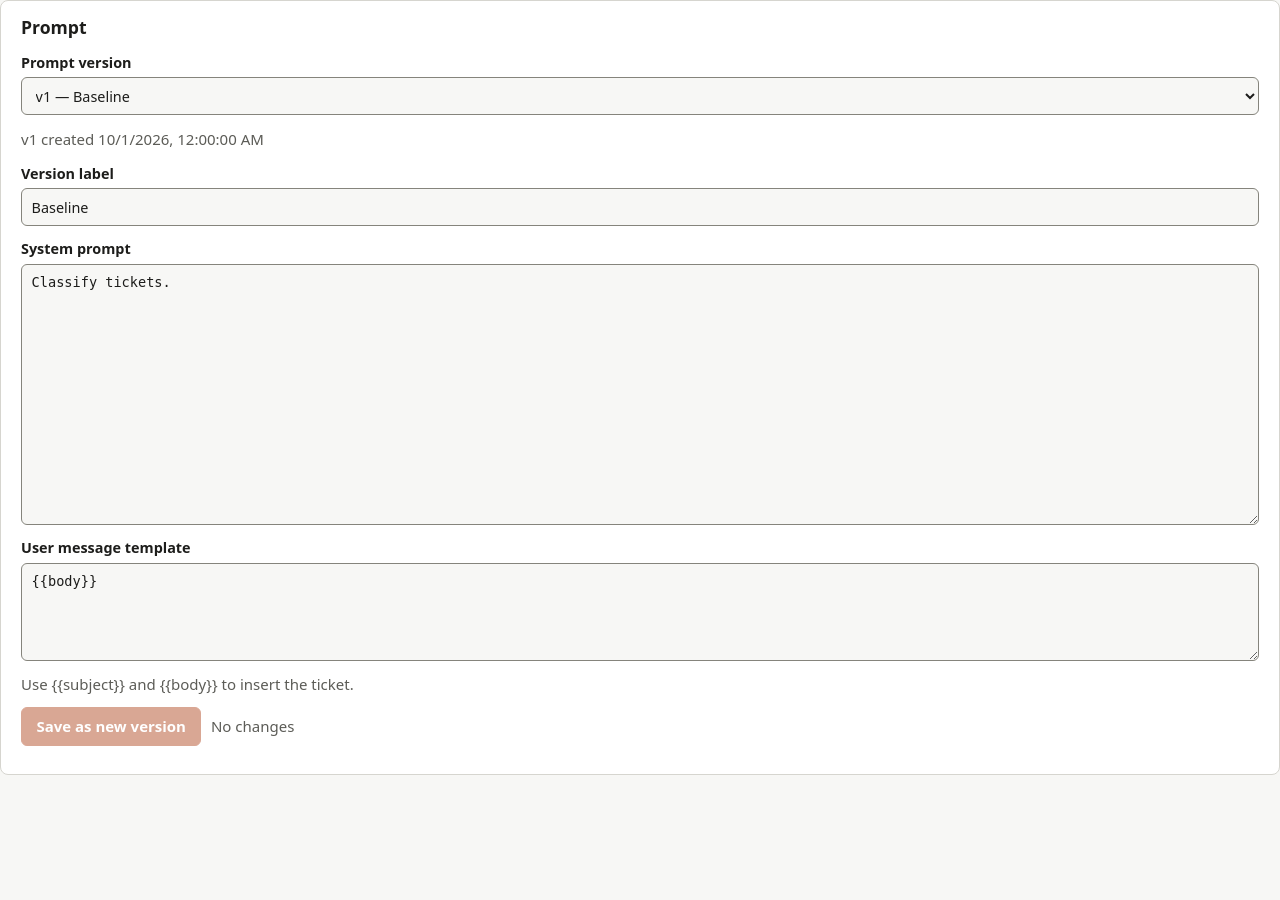
Test case: PromptEditor › saves an edit as a new version derived from the selected one
Expected: the button "Save as new version" is disabled, [21,707,201,746]
Step 1. Type " Respond with JSON." into the text box labelled "System prompt" → (640, 395), box [21,264,1259,525]
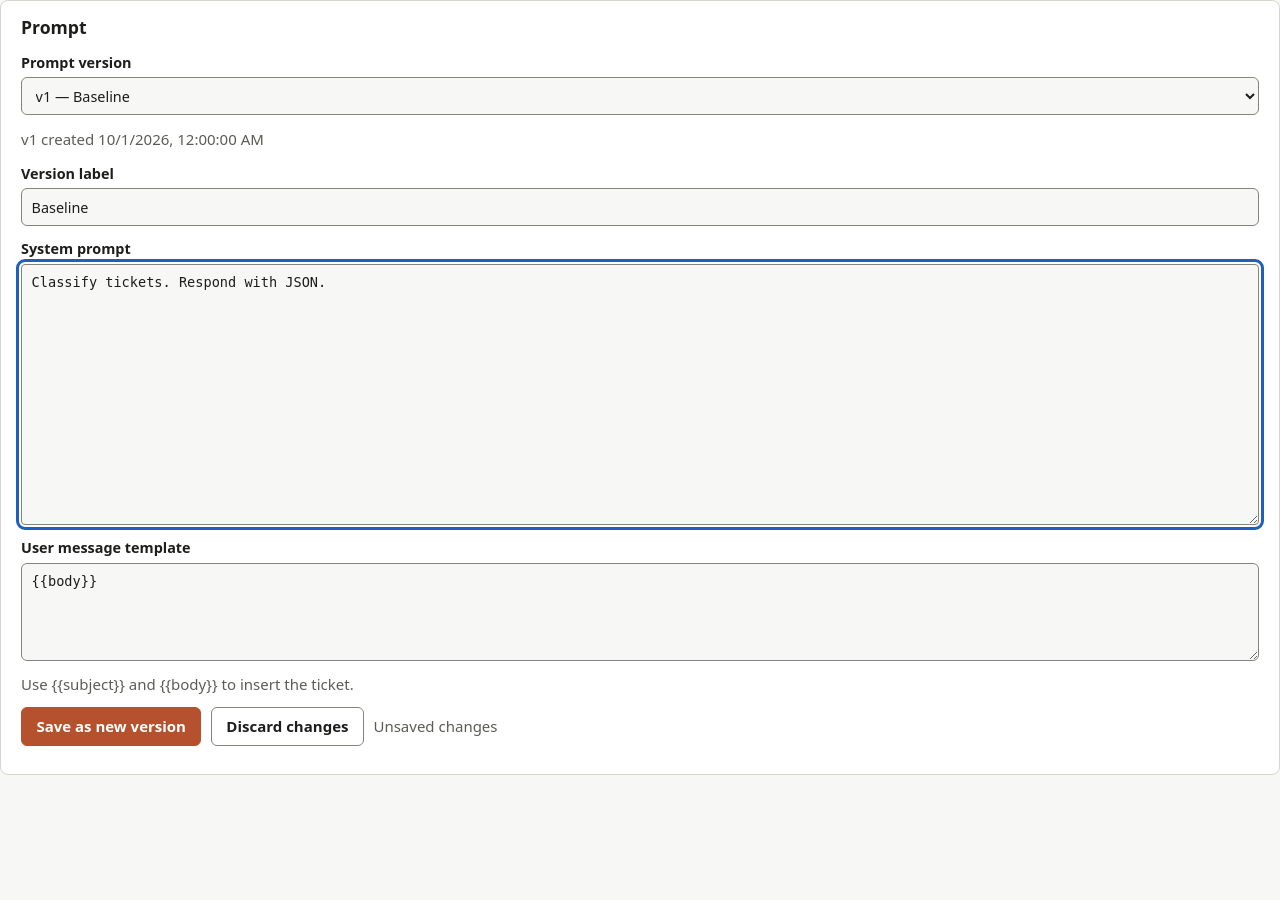
Expected: the text "Unsaved changes" is shown, [374,715,498,738]
Step 2. Click the button "Save as new version" → (111, 727), box [21,707,201,746]
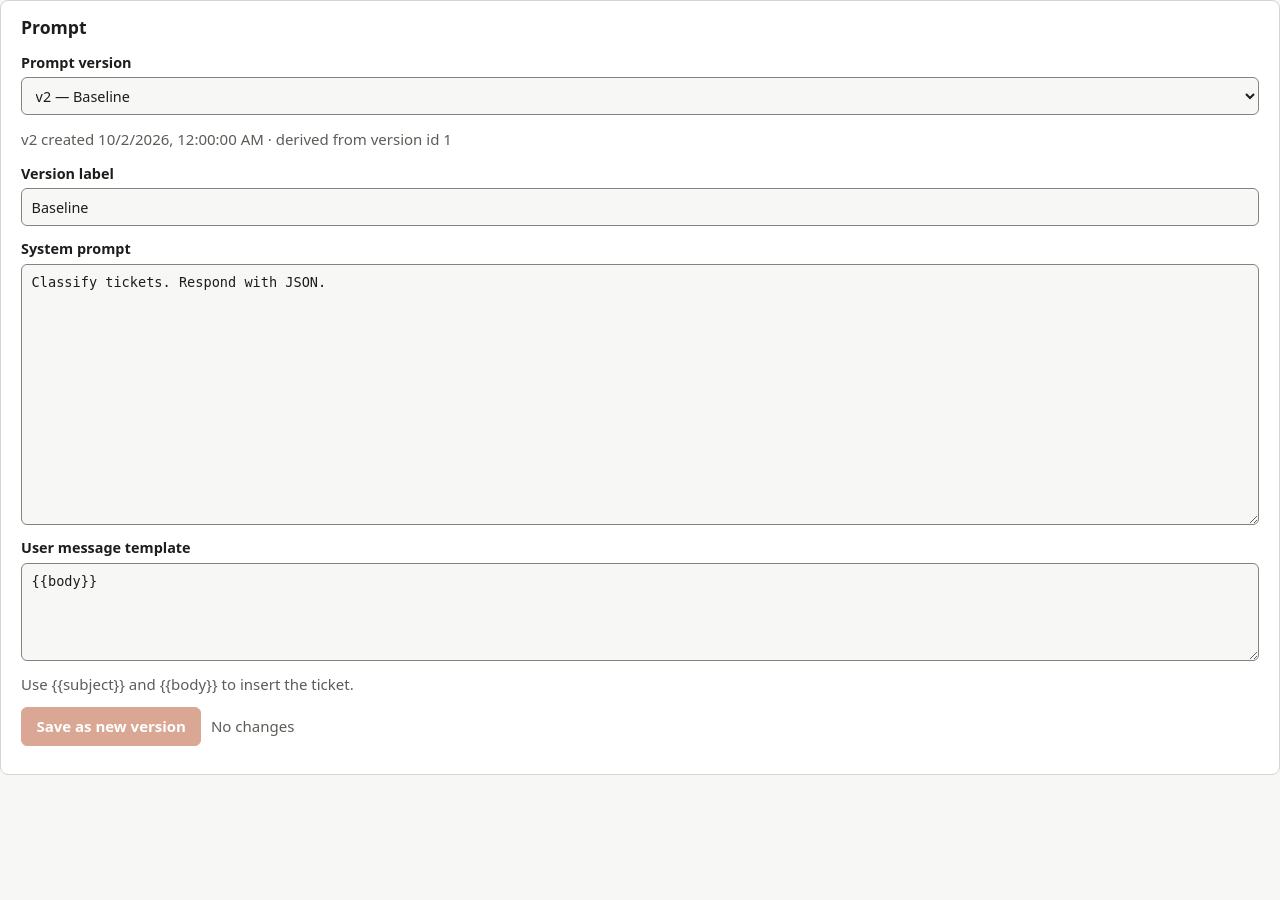
Expected: the dropdown labelled "Prompt version" shows "v2 — Baseline", [21,77,1259,115]
